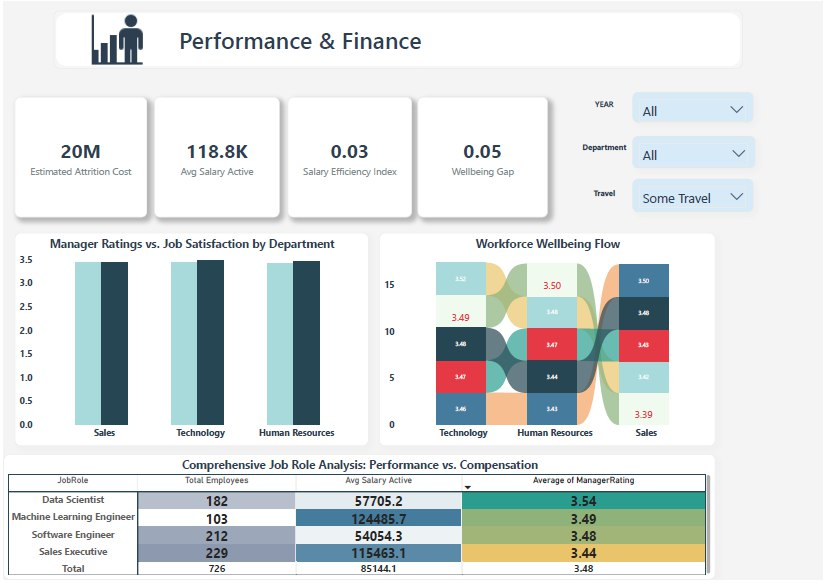

Layout of this report page (visuals, bound fields, positions):
{"tool":"powerbi","page":{"name":"Performance & Finance","canvas":[1700,1200],"ordinal":1},"visuals":[{"type":"ribbonChart","title":"Workforce Wellbeing Flow","fields":{"Series":["FctPerformance.WorkLifeBalance"],"Y":["Avg(FctPerformance.ManagerRating)"],"Category":["DimEmployee.Department"]},"box":[780,480,697.5,442.5],"z":0},{"type":"shape","box":[103.9,19.5,1431.3,119.1],"z":1000},{"type":"textbox","box":[103.9,41.1,1024.2,97.4],"z":2000},{"type":"image","box":[105,20,260,117.5],"z":3000},{"type":"card","fields":{"Values":["Key Measures.Estimated Attrition Cost"]},"box":[22.5,197.5,275,250],"z":4000},{"type":"card","fields":{"Values":["Key Measures.Avg Salary Active"]},"box":[312.5,197.5,260,250],"z":5000},{"type":"card","fields":{"Values":["Key Measures.Salary Efficiency Index"]},"box":[590,197.5,257.5,250],"z":6000},{"type":"card","fields":{"Values":["Key Measures.Wellbeing Gap"]},"box":[860,197.5,270,250],"z":7000},{"type":"slicer","title":"YEAR","fields":{"Values":["Dim Date.Year"]},"box":[1305.7,188.4,251.2,62.8],"z":8000},{"type":"textbox","box":[1188.8,197,116.9,45.5],"z":9000},{"type":"slicer","fields":{"Values":["DimEmployee.Department"]},"box":[1305.7,279.3,255.5,67.1],"z":10000},{"type":"slicer","fields":{"Values":["DimEmployee.BusinessTravel"]},"box":[1305.7,368.1,251.2,69.3],"z":11000},{"type":"textbox","box":[1188.8,285.8,116.9,56.3],"z":12000},{"type":"textbox","box":[1188.8,381.1,116.9,56.3],"z":13000},{"type":"clusteredColumnChart","title":"Manager Ratings vs. Job Satisfaction by Department","fields":{"Y":["Key Measures.Avg Job Satisfaction","Key Measures.Avg Manager Rating"],"Category":["DimEmployee.Department"]},"box":[22.5,480,735,442.5],"z":14000},{"type":"pivotTable","title":"Comprehensive Job Role Analysis: Performance vs. Compensation","fields":{"Rows":["DimEmployee.JobRole"],"Values":["Key Measures.Total Employees","Key Measures.Avg Salary Active","Avg(FctPerformance.ManagerRating)"]},"box":[0,940,1477.5,260],"z":15000}]}

Visuals, with their boxes in screenshot pixels (x1, y1, x2, y2), scaled from the page's 1700x1200 canvas onto the 831x588 screenshot:
"Workforce Wellbeing Flow" ribbonChart: [381,235,722,452]
shape: [51,10,750,68]
textbox: [51,20,551,68]
image: [51,10,178,67]
card - Key Measures.Estimated Attrition Cost: [11,97,145,219]
card - Key Measures.Avg Salary Active: [153,97,280,219]
card - Key Measures.Salary Efficiency Index: [288,97,414,219]
card - Key Measures.Wellbeing Gap: [420,97,552,219]
"YEAR" slicer: [638,92,761,123]
textbox: [581,97,638,119]
slicer - DimEmployee.Department: [638,137,763,170]
slicer - DimEmployee.BusinessTravel: [638,180,761,214]
textbox: [581,140,638,168]
textbox: [581,187,638,214]
"Manager Ratings vs. Job Satisfaction by Department" clusteredColumnChart: [11,235,370,452]
"Comprehensive Job Role Analysis: Performance vs. Compensation" pivotTable: [0,461,722,587]
